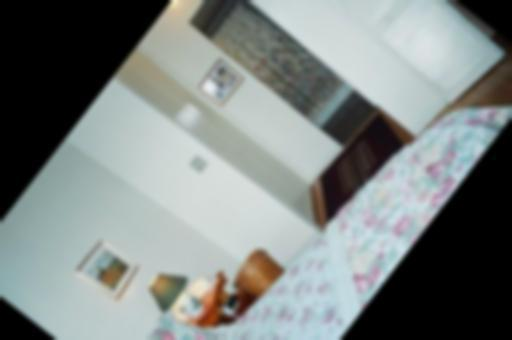Armario: (121, 49, 325, 216)
Bote de Basura: (226, 245, 288, 309)
Ducha: (208, 0, 354, 126)
